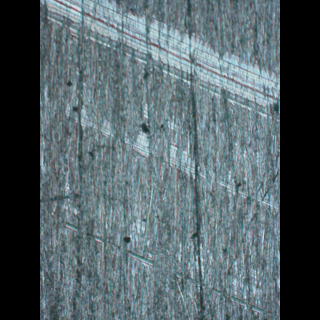d: (39, 89, 279, 213), (43, 0, 279, 124)
